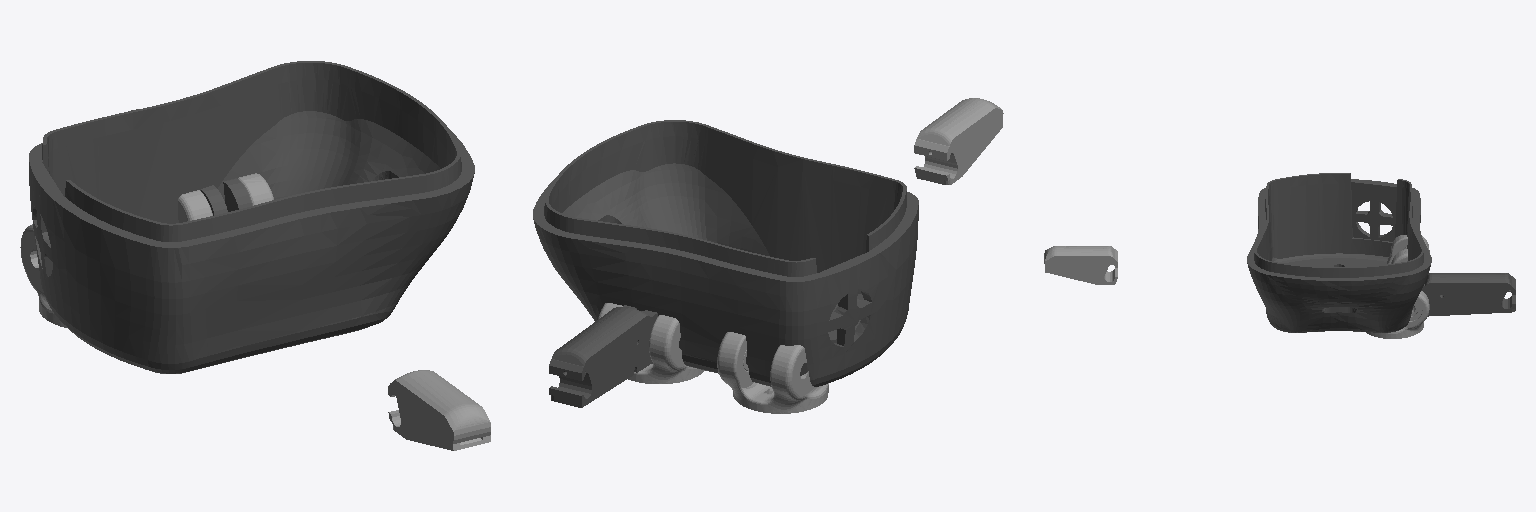
The robot description file, URDF, robot "Reflex_Assem":
<robot
  name="Reflex_Assem">
  <link
    name="base_link">
    <inertial>
      <origin
        xyz="3.0216E-05 -0.010622 -0.0169"
        rpy="0 0 0" />
      <mass
        value="0.24584" />
      <inertia
        ixx="0.00046643"
        ixy="3.914E-07"
        ixz="-1.1388E-06"
        iyy="0.00036883"
        iyz="-3.3676E-05"
        izz="0.00046818" />
    </inertial>
    <visual>
      <origin
        xyz="0 0 0"
        rpy="0 0 0" />
      <geometry>
        <mesh
          filename="package://Reflex_Assem/meshes/base_link.STL" />
      </geometry>
      <material
        name="">
        <color
          rgba="0.376 0.376 0.376 1" />
      </material>
    </visual>
    <collision>
      <origin
        xyz="0 0 0"
        rpy="0 0 0" />
      <geometry>
        <mesh
          filename="package://Reflex_Assem/meshes/base_link.STL" />
      </geometry>
    </collision>
  </link>
  <link
    name="swivel1">
    <inertial>
      <origin
        xyz="0.00017449 0.0052831 0.0054101"
        rpy="0 0 0" />
      <mass
        value="0.012217" />
      <inertia
        ixx="1.6714E-06"
        ixy="1.5123E-08"
        ixz="9.7662E-09"
        iyy="2.2057E-06"
        iyz="3.9094E-07"
        izz="2.216E-06" />
    </inertial>
    <visual>
      <origin
        xyz="0 0 0"
        rpy="0 0 0" />
      <geometry>
        <mesh
          filename="package://Reflex_Assem/meshes/swivel1.STL" />
      </geometry>
      <material
        name="">
        <color
          rgba="0.627 0.627 0.627 1"/>
      </material>
    </visual>
    <collision>
      <origin
        xyz="0 0 0"
        rpy="0 0 0" />
      <geometry>
        <mesh
          filename="package://Reflex_Assem/meshes/swivel1.STL" />
      </geometry>
    </collision>
  </link>
  <joint
    name="pre1_joint"
    type="continuous">
    <origin
      xyz="0.026 0.0303973683071413 0"
      rpy="1.5707963267949 0 3.14159265358979" />
    <parent
      link="base_link" />
    <child
      link="swivel1" />
    <axis
      xyz="0 -1 0" />
  </joint>
  <link
    name="proximal1">
    <inertial>
      <origin
        xyz="0.025736 -2.4942E-06 0.0030787"
        rpy="0 0 0" />
      <mass
        value="0.016637" />
      <inertia
        ixx="9.6283E-07"
        ixy="7.9204E-10"
        ixz="3.8124E-07"
        iyy="6.1965E-06"
        iyz="4.093E-10"
        izz="5.8217E-06" />
    </inertial>
    <visual>
      <origin
        xyz="0 0 0"
        rpy="0 0 0" />
      <geometry>
        <mesh
          filename="package://Reflex_Assem/meshes/proximal1.STL" />
      </geometry>
      <material
        name="">
        <color
          rgba="0.377 0.377 0.377 1"/>
      </material>
    </visual>
    <collision>
      <origin
        xyz="0 0 0"
        rpy="0 0 0" />
      <geometry>
        <mesh
          filename="package://Reflex_Assem/meshes/proximal1.STL" />
      </geometry>
    </collision>
  </link>
  <joint
    name="prox1_joint"
    type="continuous">
    <origin
      xyz="0 0.0124 0.01"
      rpy="-1.5707963267949 -1.5707963267949 0" />
    <parent
      link="swivel1" />
    <child
      link="proximal1" />
    <axis
      xyz="0 1 0" />
  </joint>
  <link
    name="distal1">
    <inertial>
      <origin
        xyz="0.028629 1.2689E-05 0.00026278"
        rpy="0 0 0" />
      <mass
        value="0.0081318" />
      <inertia
        ixx="3.4817E-07"
        ixy="1.2099E-09"
        ixz="7.9367E-08"
        iyy="1.1516E-06"
        iyz="-3.8431E-11"
        izz="1.0681E-06" />
    </inertial>
    <visual>
      <origin
        xyz="0 0 0"
        rpy="0 0 0" />
      <geometry>
        <mesh
          filename="package://Reflex_Assem/meshes/distal1.STL" />
      </geometry>
      <material
        name="">
        <color
          rgba="0.628 0.628 0.628 1" />
      </material>
    </visual>
    <collision>
      <origin
        xyz="0 0 0"
        rpy="0 0 0" />
      <geometry>
        <mesh
          filename="package://Reflex_Assem/meshes/distal1.STL" />
      </geometry>
    </collision>
  </link>
  <joint
    name="dist1_joint"
    type="continuous">
    <origin
      xyz="0.068 0 0.00574999999999997"
      rpy="0 0 0" />
    <parent
      link="proximal1" />
    <child
      link="distal1" />
    <axis
      xyz="0 1 0" />
  </joint>
  <link
    name="swivel2">
    <inertial>
      <origin
        xyz="0.00017449 0.0052831 0.0054101"
        rpy="0 0 0" />
      <mass
        value="0.012217" />
      <inertia
        ixx="1.6714E-06"
        ixy="1.5123E-08"
        ixz="9.7662E-09"
        iyy="2.2057E-06"
        iyz="3.9094E-07"
        izz="2.216E-06" />
    </inertial>
    <visual>
      <origin
        xyz="0 0 0"
        rpy="0 0 0" />
      <geometry>
        <mesh
          filename="package://Reflex_Assem/meshes/swivel2.STL" />
      </geometry>
      <material
        name="">
        <color
          rgba="0.627 0.627 0.627 1"/>
      </material>
    </visual>
    <collision>
      <origin
        xyz="0 0 0"
        rpy="0 0 0" />
      <geometry>
        <mesh
          filename="package://Reflex_Assem/meshes/swivel2.STL" />
      </geometry>
    </collision>
  </link>
  <joint
    name="pre2_joint"
    type="continuous">
    <origin
      xyz="-0.026 0.0303973683071413 0"
      rpy="1.5707963267949 0 3.14159265358979" />
    <parent
      link="base_link" />
    <child
      link="swivel2" />
    <axis
      xyz="0 -1 0" />
  </joint>
  <link
    name="proximal2">
    <inertial>
      <origin
        xyz="0.025736 -2.4942E-06 0.0030787"
        rpy="0 0 0" />
      <mass
        value="0.016637" />
      <inertia
        ixx="9.6283E-07"
        ixy="7.9204E-10"
        ixz="3.8124E-07"
        iyy="6.1965E-06"
        iyz="4.093E-10"
        izz="5.8217E-06" />
    </inertial>
    <visual>
      <origin
        xyz="0 0 0"
        rpy="0 0 0" />
      <geometry>
        <mesh
          filename="package://Reflex_Assem/meshes/proximal2.STL" />
      </geometry>
      <material
        name="">
        <color
          rgba="0.377 0.377 0.377 1"/>
      </material>
    </visual>
    <collision>
      <origin
        xyz="0 0 0"
        rpy="0 0 0" />
      <geometry>
        <mesh
          filename="package://Reflex_Assem/meshes/proximal2.STL" />
      </geometry>
    </collision>
  </link>
  <joint
    name="prox2_joint"
    type="continuous">
    <origin
      xyz="0 0.0124 0.01"
      rpy="-1.5707963267949 -1.5707963267949 0" />
    <parent
      link="swivel2" />
    <child
      link="proximal2" />
    <axis
      xyz="0 1 0" />
  </joint>
  <link
    name="distal2">
    <inertial>
      <origin
        xyz="0.028629 1.2689E-05 0.00026278"
        rpy="0 0 0" />
      <mass
        value="0.0081318" />
      <inertia
        ixx="3.4817E-07"
        ixy="1.2099E-09"
        ixz="7.9367E-08"
        iyy="1.1516E-06"
        iyz="-3.8431E-11"
        izz="1.0681E-06" />
    </inertial>
    <visual>
      <origin
        xyz="0 0 0"
        rpy="0 0 0" />
      <geometry>
        <mesh
          filename="package://Reflex_Assem/meshes/distal2.STL" />
      </geometry>
      <material
        name="">
        <color
          rgba="0.628 0.628 0.628 1" />
      </material>
    </visual>
    <collision>
      <origin
        xyz="0 0 0"
        rpy="0 0 0" />
      <geometry>
        <mesh
          filename="package://Reflex_Assem/meshes/distal2.STL" />
      </geometry>
    </collision>
  </link>
  <joint
    name="dist2_joint"
    type="continuous">
    <origin
      xyz="0.068 0 0.00574999999999996"
      rpy="0 0 0" />
    <parent
      link="proximal2" />
    <child
      link="distal2" />
    <axis
      xyz="0 1 0" />
  </joint>
  <link
    name="proximal3">
    <inertial>
      <origin
        xyz="0.025736 -2.4942E-06 0.0030787"
        rpy="0 0 0" />
      <mass
        value="0.016637" />
      <inertia
        ixx="9.6283E-07"
        ixy="7.9204E-10"
        ixz="3.8124E-07"
        iyy="6.1965E-06"
        iyz="4.093E-10"
        izz="5.8217E-06" />
    </inertial>
    <visual>
      <origin
        xyz="0 0 0"
        rpy="0 0 0" />
      <geometry>
        <mesh
          filename="package://Reflex_Assem/meshes/proximal3.STL" />
      </geometry>
      <material
        name="">
        <color
          rgba="0.377 0.377 0.377 1"/>
      </material>
    </visual>
    <collision>
      <origin
        xyz="0 0 0"
        rpy="0 0 0" />
      <geometry>
        <mesh
          filename="package://Reflex_Assem/meshes/proximal3.STL" />
      </geometry>
    </collision>
  </link>
  <joint
    name="prox3_joint"
    type="continuous">
    <origin
      xyz="0 -0.05 0.0173"
      rpy="-4.61601181103517E-17 -6.12303176911189E-17 -1.5707963267949" />
    <parent
      link="base_link" />
    <child
      link="proximal3" />
    <axis
      xyz="0 -1 0" />
  </joint>
  <link
    name="distal3">
    <inertial>
      <origin
        xyz="0.028629 1.2689E-05 0.00026278"
        rpy="0 0 0" />
      <mass
        value="0.0081318" />
      <inertia
        ixx="3.4817E-07"
        ixy="1.2099E-09"
        ixz="7.9367E-08"
        iyy="1.1516E-06"
        iyz="-3.8431E-11"
        izz="1.0681E-06" />
    </inertial>
    <visual>
      <origin
        xyz="0 0 0"
        rpy="0 0 0" />
      <geometry>
        <mesh
          filename="package://Reflex_Assem/meshes/distal3.STL" />
      </geometry>
      <material
        name="">
        <color
          rgba="0.628 0.628 0.628 1" />
      </material>
    </visual>
    <collision>
      <origin
        xyz="0 0 0"
        rpy="0 0 0" />
      <geometry>
        <mesh
          filename="package://Reflex_Assem/meshes/distal3.STL" />
      </geometry>
    </collision>
  </link>
  <joint
    name="dist3_joint"
    type="continuous">
    <origin
      xyz="0.068 0 0.00575000000000001"
      rpy="-7.39557098644699E-32 -2.93074293484588E-48 6.34908023380609E-32" />
    <parent
      link="proximal3" />
    <child
      link="distal3" />
    <axis
      xyz="0 1 0" />
  </joint>



  <link name="prox1_tactile" />

  <joint name="prox1_tactile_joint" type="fixed">
    <origin xyz="0 0 0" rpy="0 0 0" />
    <parent link="proximal1" />
    <child link="prox1_tactile" />
  </joint>

  <joint name="prox2_tactile_joint" type="fixed">
    <origin xyz="0 0 0" rpy="0 0 0" />
    <parent link="proximal2" />
    <child link="prox2_tactile" />
  </joint>

  <link name="prox2_tactile"/>

  <joint name="prox3_tactile_joint" type="fixed">
    <origin xyz="0 0 0" rpy="0 0 0" />
    <parent link="proximal3" />
    <child link="prox3_tactile" />
  </joint>

  <link name="prox3_tactile"/>

  <joint name="dist1_tactile_joint" type="fixed">
    <origin xyz="0 0 0" rpy="0 0 0" />
    <parent link="distal1" />
    <child link="dist1_tactile" />
  </joint>

  <link name="dist1_tactile"/>

  <joint name="dist2_tactile_joint" type="fixed">
    <origin xyz="0 0 0" rpy="0 0 0" />
    <parent link="distal2" />
    <child link="dist2_tactile" />
  </joint>

  <link name="dist2_tactile"/>

  <joint name="dist3_tactile_joint" type="fixed">
    <origin xyz="0 0 0" rpy="0 0 0" />
    <parent link="distal3" />
    <child link="dist3_tactile" />
  </joint>

  <link name="dist3_tactile"/>
</robot>

--- Facts derived from the render (not from the file) ---
Views: 3 orthographic renders of the robot side by side, from view 1: azimuth 30°, elevation 25°; view 2: azimuth 150°, elevation 25°; view 3: azimuth 270°, elevation 25°.
Model Reflex_Assem with 15 links and 14 joints (8 continuous, 6 fixed), rooted at base_link, posed every joint at zero.
Links seen in each view (by area): view 1: base_link, distal3, swivel1, swivel2, proximal1; view 2: base_link, proximal1, swivel2, distal3, swivel1; view 3: base_link, proximal1, distal3, swivel1.
Boxes of the visible links, x1,y1,x2,y2 form: base_link: (29,61,474,373); distal3: (388,370,490,450); swivel1: (178,173,273,222); swivel2: (20,224,66,327); proximal1: (128,109,251,215); base_link: (533,120,918,386); proximal1: (549,305,657,407); swivel2: (717,332,828,413); distal3: (914,98,1003,184); swivel1: (598,303,704,383); base_link: (1247,173,1431,332); proximal1: (1413,273,1515,316); distal3: (1044,246,1117,284); swivel1: (1366,291,1429,338).
Bounding box of the posed robot: 0.138 × 0.2685 × 0.0634 m (x, y, z).
Meshes: 9 distinct files referenced, 5 mesh visuals loaded (5 binary STL); not drawn: 4 (reference not matched to a file when rendering).